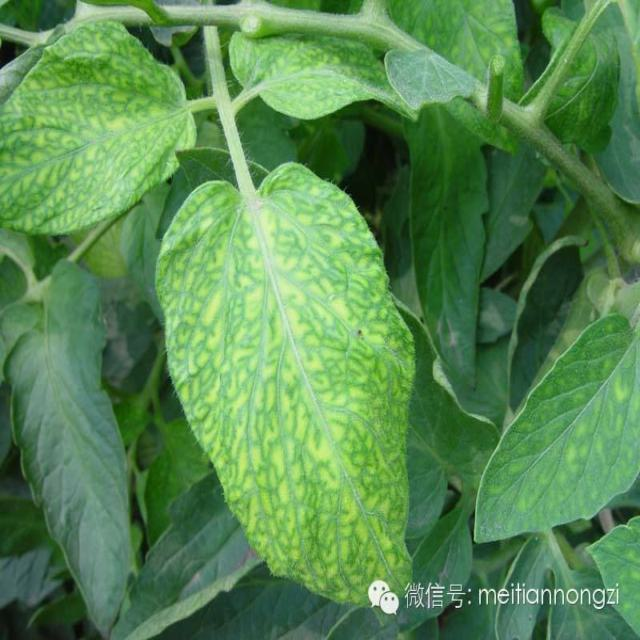Leaf_Mold: (160, 170, 422, 603), (1, 25, 194, 235), (228, 29, 419, 132)
